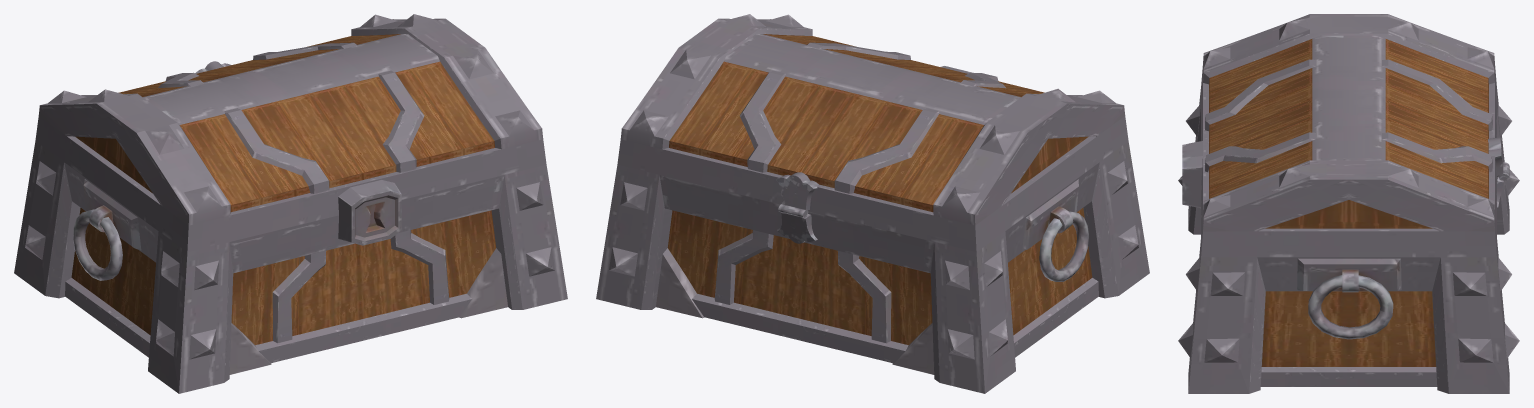
Rendered from chest.glb.
The picture shows the model from 3 angles, left to right: view 1: azimuth 30°, elevation 25°; view 2: azimuth 150°, elevation 25°; view 3: azimuth 270°, elevation 25°; orthographic projection. The views are drawn at different scales.
Visible parts, largest first — view 1: Chest_Wood_Base.001; view 2: Chest_Wood_Base.001; view 3: Chest_Wood_Base.001.
Boxes of the visible parts, x1=… form: Chest_Wood_Base.001: x1=14, y1=14, x2=567, y2=393; Chest_Wood_Base.001: x1=596, y1=14, x2=1149, y2=393; Chest_Wood_Base.001: x1=1178, y1=14, x2=1519, y2=393.
Bounding box in the file's own units: 1.23 × 0.625 × 0.934.
2 materials, 2 textured.
